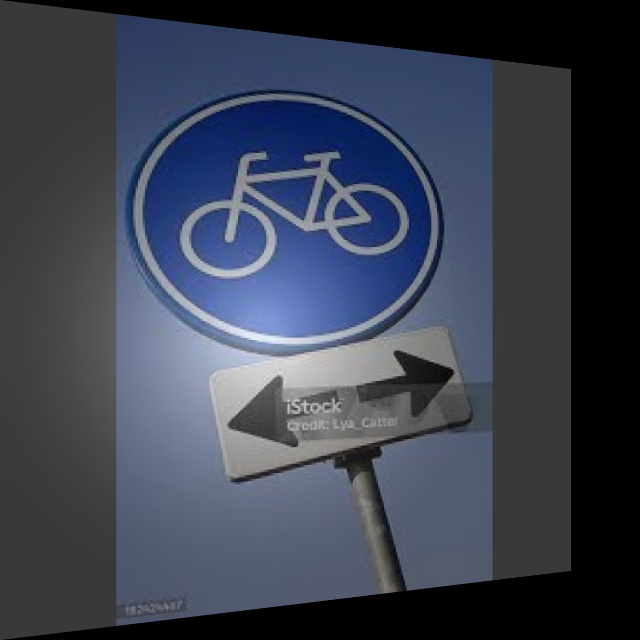Compulsory_Cycle_Track: (133, 76, 447, 321)
